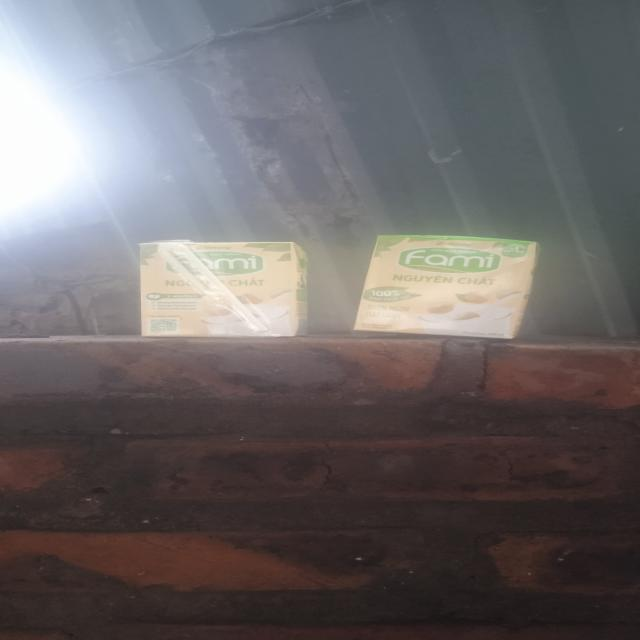Fami: (351, 233, 545, 342), (132, 240, 311, 341)
